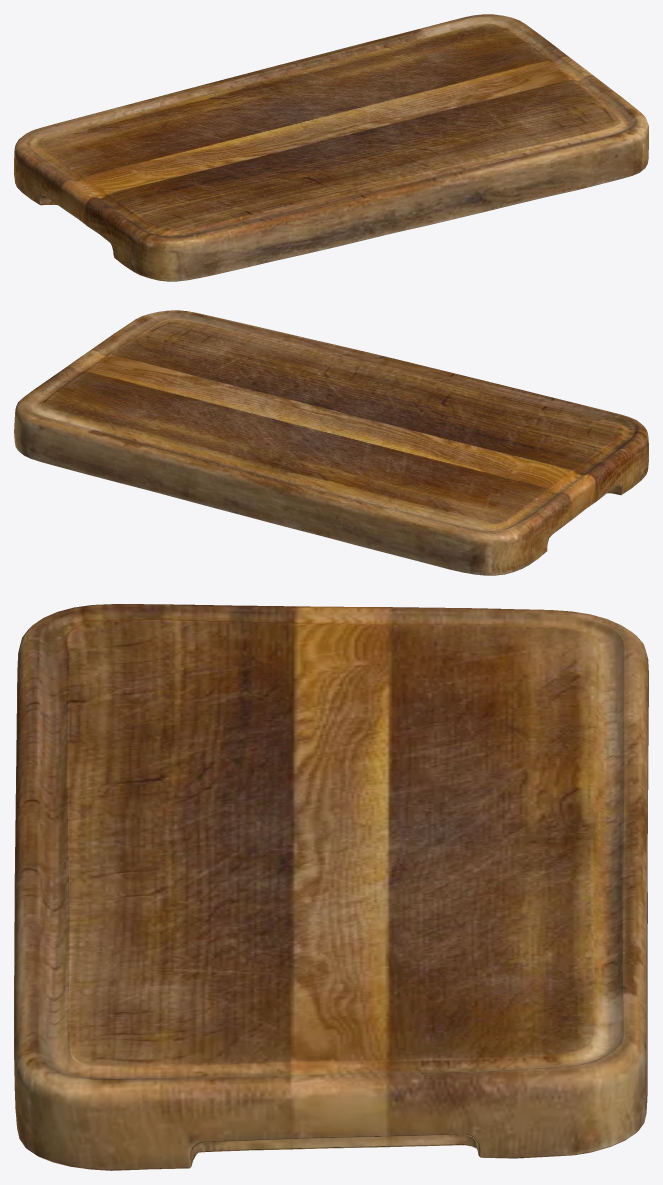
Rendered from wooden_cutting_board.glb.
3 views of the same model, one above another, from view 1: azimuth 30°, elevation 25°; view 2: azimuth 150°, elevation 25°; view 3: azimuth 270°, elevation 25° (orthographic). The views are drawn at different scales.
Parts seen in each view (by area): view 1: wooden_cutting_board; view 2: wooden_cutting_board; view 3: wooden_cutting_board.
Part boxes in pixels (left/top/right/bottom): wooden_cutting_board: left=14, top=14, right=648, bottom=281; wooden_cutting_board: left=14, top=310, right=648, bottom=575; wooden_cutting_board: left=14, top=604, right=648, bottom=1170.
Bounding box in the file's own units: 0.4499 × 0.0412 × 0.2467.
1 material, 1 textured.
